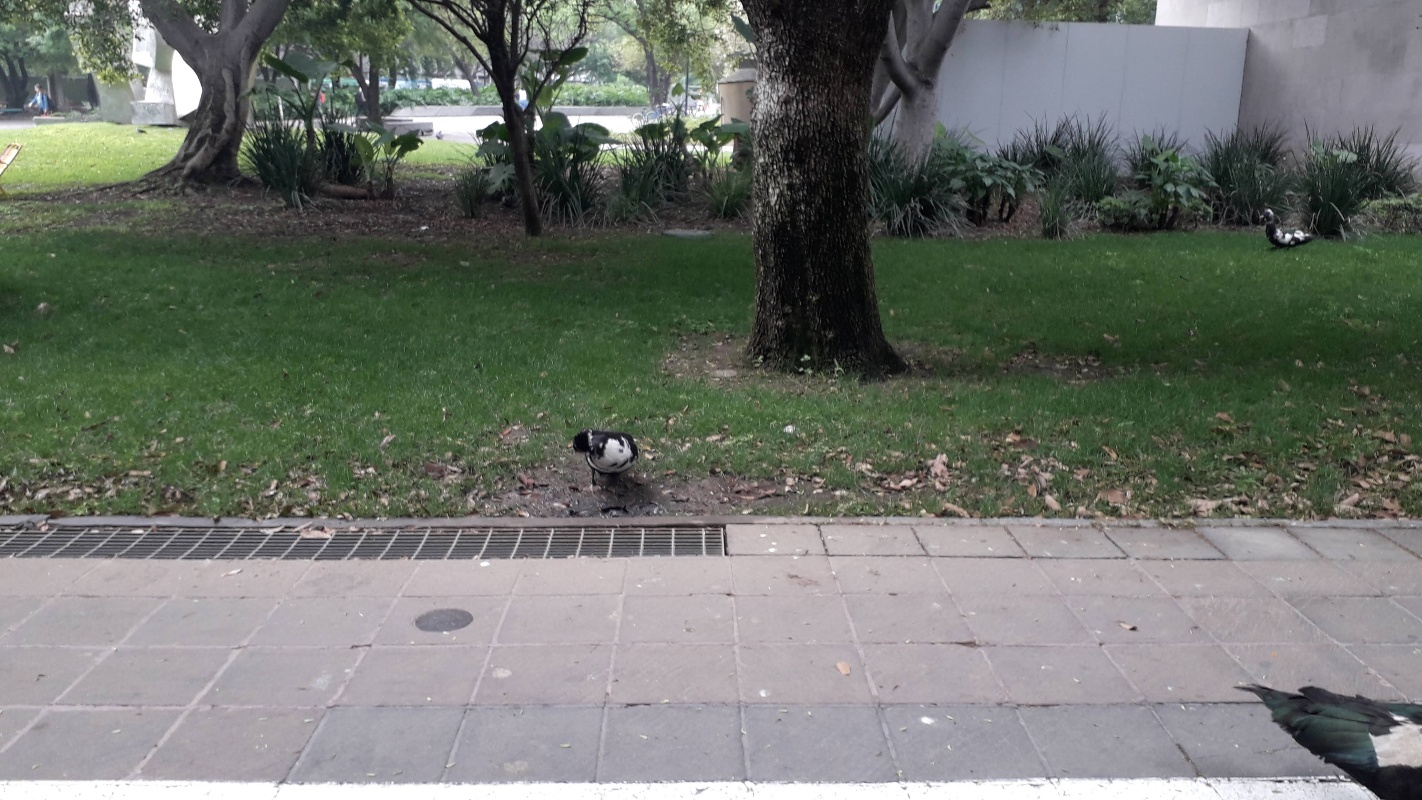pato: (567, 423, 640, 482), (1262, 204, 1311, 251)
